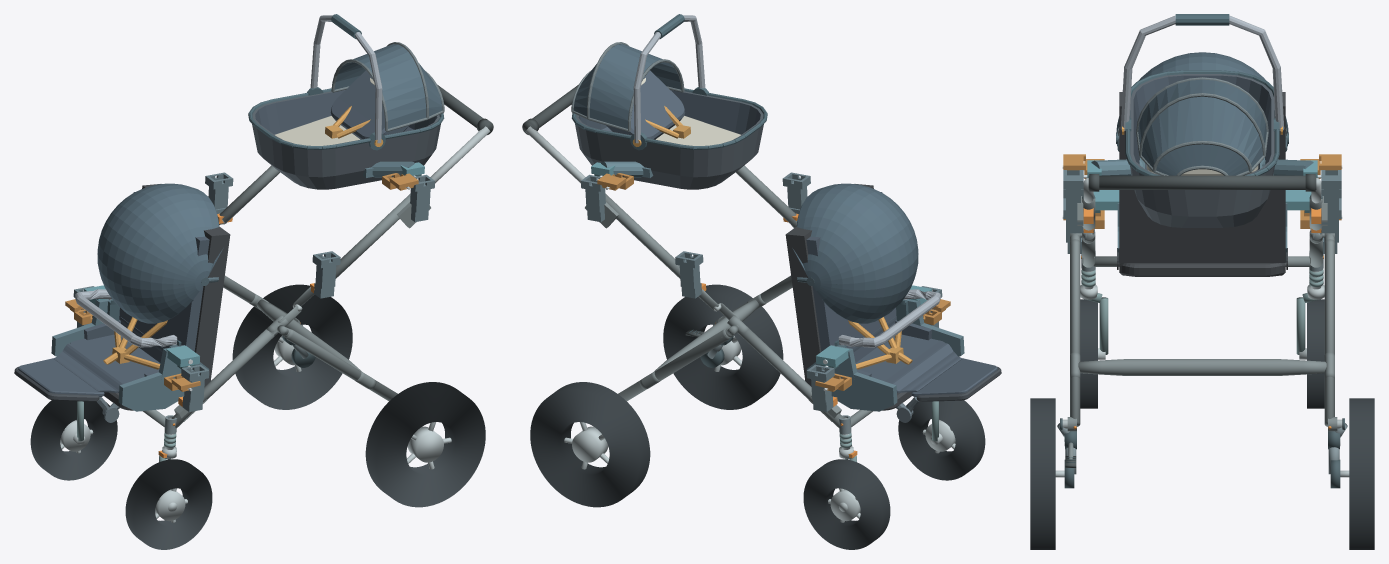
The model's file is D06_w650_state1_wheel_L.glb.
3 renders of one model, left to right at view 1: azimuth 30°, elevation 25°; view 2: azimuth 150°, elevation 25°; view 3: azimuth 270°, elevation 25°, orthographic. The views are drawn at different scales.
Visible parts, largest first — view 1: D06_Lower, D06_Upper, RL_tire.008, RR_tire.008, FL_tire.008, FR_tire.008, D06_Lower_Mount_L, V46_rear_leg_-1.009, main_lower_-1.009, main_upper_-1.009, Universal_Cabin_Receiver_M_-1, RL_sealed_hub.008 (+9 smaller); view 2: D06_Lower, D06_Upper, RR_tire.008, RL_tire.008, FR_tire.008, FL_tire.008, D06_Lower_Mount_L, V46_rear_leg_1.009, main_lower_1.009, main_upper_1.009, Universal_Cabin_Receiver_M_1, RR_sealed_hub.008 (+9 smaller); view 3: D06_Upper, D06_Lower, V46_rearbar.009, RL_tire.008, RR_tire.008, round_handle.008, FL_tire.008, FR_tire.008, V46_rear_leg_1.009, V46_rear_leg_-1.009, D06_Upper_Mount_H, D06_Lower_Mount_L (+7 smaller).
Part boxes in pixels (x1,y1,x2,y2): D06_Lower: (14, 183, 230, 422); D06_Upper: (248, 14, 444, 189); RL_tire.008: (365, 382, 485, 507); RR_tire.008: (232, 284, 352, 409); FL_tire.008: (125, 459, 212, 549); FR_tire.008: (30, 400, 117, 480); D06_Lower_Mount_L: (51, 285, 209, 411); V46_rear_leg_-1.009: (285, 329, 397, 401); main_lower_-1.009: (171, 329, 277, 428); main_upper_-1.009: (335, 193, 410, 278); Universal_Cabin_Receiver_M_-1: (312, 251, 340, 298); RL_sealed_hub.008: (407, 426, 443, 462); D06_Lower: (785, 183, 1001, 422); D06_Upper: (571, 14, 767, 189); RR_tire.008: (530, 382, 650, 507); RL_tire.008: (663, 284, 783, 409); FR_tire.008: (803, 459, 890, 549); FL_tire.008: (898, 400, 985, 480); D06_Lower_Mount_L: (806, 285, 964, 411); V46_rear_leg_1.009: (618, 329, 730, 401); main_lower_1.009: (738, 329, 844, 428); main_upper_1.009: (605, 193, 680, 278); Universal_Cabin_Receiver_M_1: (675, 251, 703, 298); RR_sealed_hub.008: (572, 426, 608, 462); D06_Upper: (1120, 14, 1284, 227); D06_Lower: (1116, 52, 1288, 276); V46_rearbar.009: (1078, 359, 1326, 375); RL_tire.008: (1030, 398, 1055, 549); RR_tire.008: (1349, 398, 1374, 549); round_handle.008: (1088, 175, 1316, 189); FL_tire.008: (1080, 299, 1097, 408); FR_tire.008: (1307, 299, 1324, 408); V46_rear_leg_1.009: (1324, 239, 1334, 426); V46_rear_leg_-1.009: (1070, 239, 1080, 426); D06_Upper_Mount_H: (1083, 158, 1321, 178); D06_Lower_Mount_L: (1093, 190, 1311, 262).
Size of the model in its own units: 1.37 by 1.36 by 0.8171.
